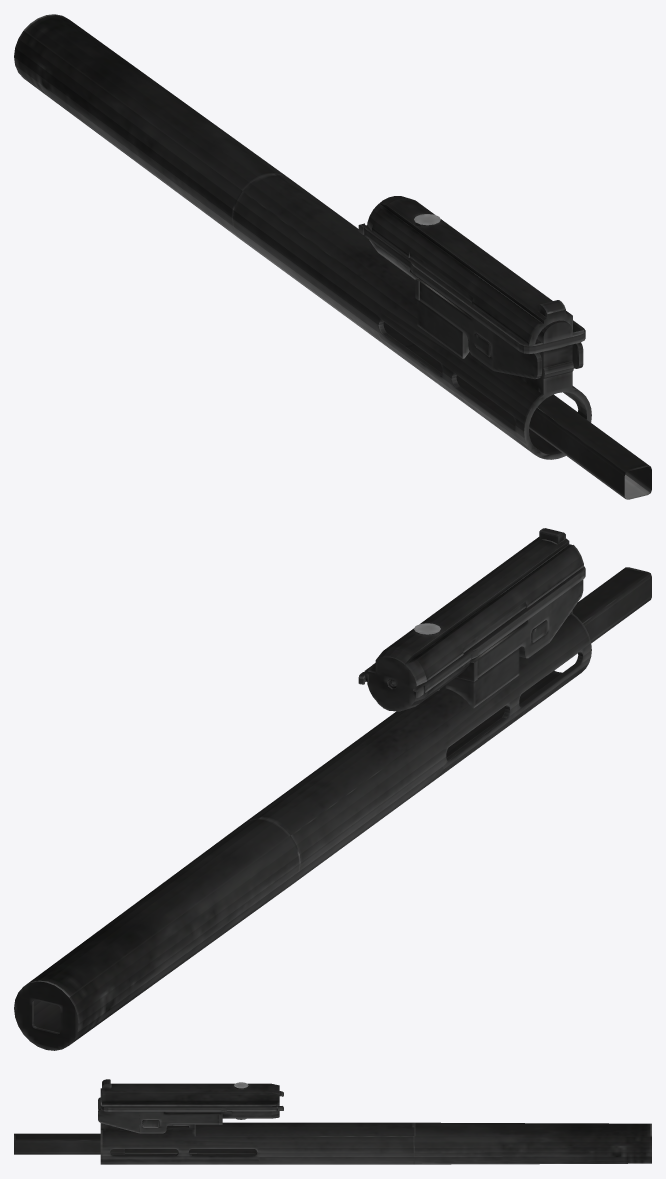
3 renders of one model, top to bottom at view 1: azimuth 30°, elevation 25°; view 2: azimuth 150°, elevation 25°; view 3: azimuth 270°, elevation 25°, orthographic. The views are drawn at different scales.
Visible parts, largest first — view 1: TW_66ffa9b66e19cc902401c5e8_PZ_Import; view 2: TW_66ffa9b66e19cc902401c5e8_PZ_Import; view 3: TW_66ffa9b66e19cc902401c5e8_PZ_Import.
Part boxes in pixels (x1,y1,x2,y2): TW_66ffa9b66e19cc902401c5e8_PZ_Import: [14, 14, 651, 499]; TW_66ffa9b66e19cc902401c5e8_PZ_Import: [14, 528, 651, 1050]; TW_66ffa9b66e19cc902401c5e8_PZ_Import: [14, 1079, 651, 1164].
Bounding box in the file's own units: 0.0163 × 0.2459 × 0.0345.
Materials: 1 (1 with a texture image).
